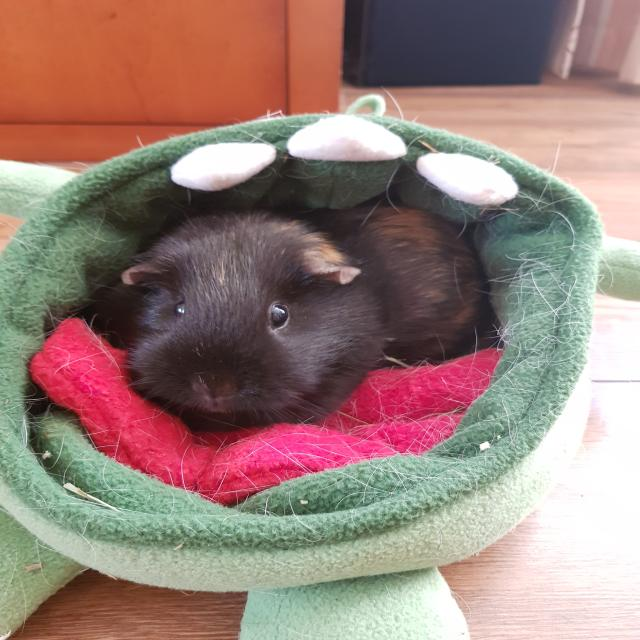guinea pig: (93, 200, 510, 432)
